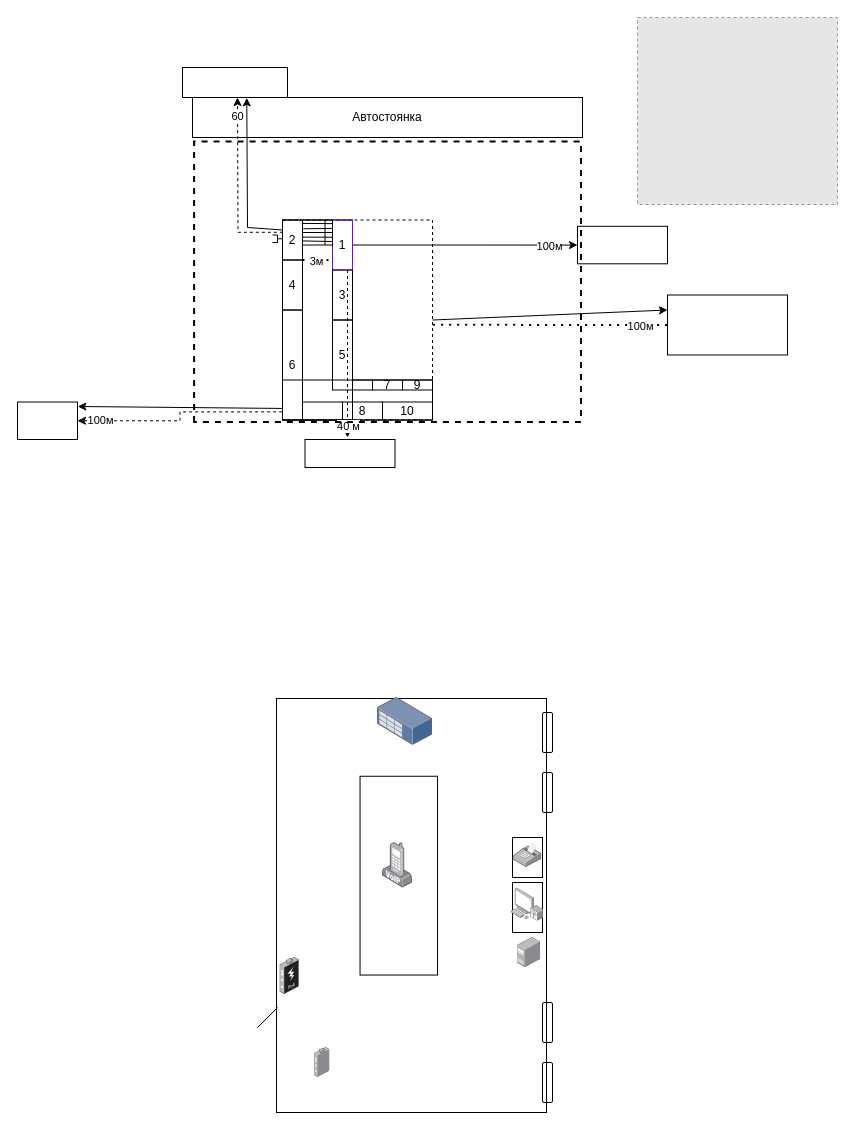
This 855x1130 diagram has some shape labels left out. Grey dashed boxes stand in for pictures. Here are the shapes that lost their labels. From the top down, the centre of each, then its label:
point 235,82: ТП-10/0,4
point 622,244: Зацікавлена сторана 1
point 727,324: Котельня
point 47,420: Служби
point 349,453: Зацікавлена сторона 2
